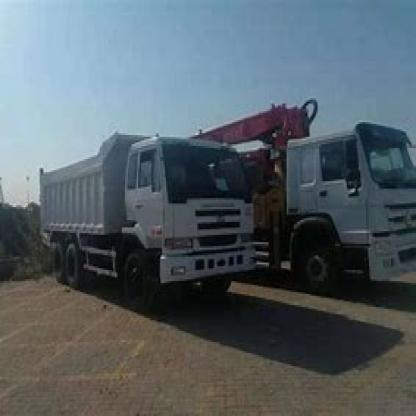dump_truck: (32, 104, 265, 324), (276, 113, 414, 298)
